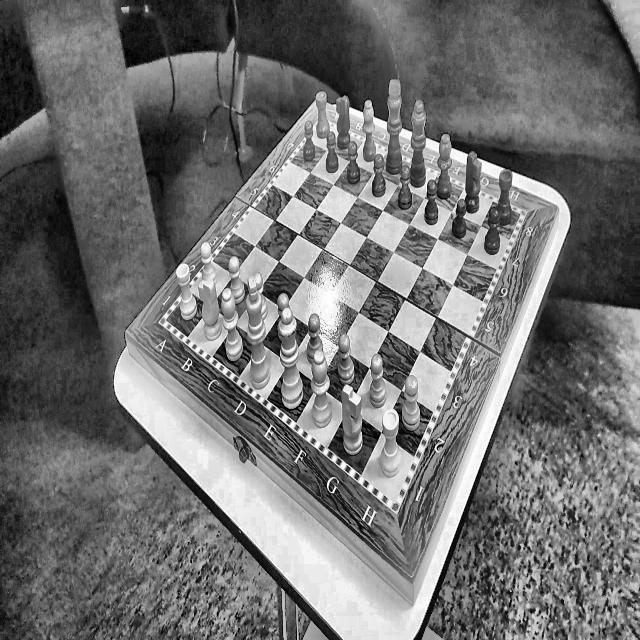chessboard: (169, 123, 520, 499)
